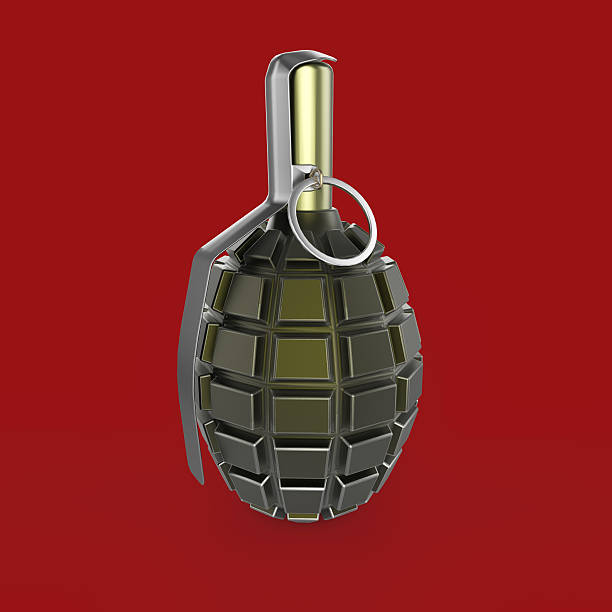e1: (172, 47, 423, 524)
